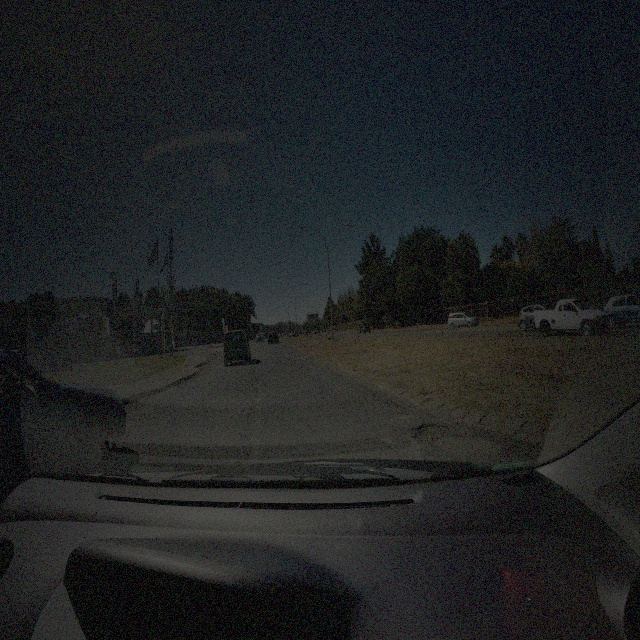pothole: (409, 419, 451, 447)
